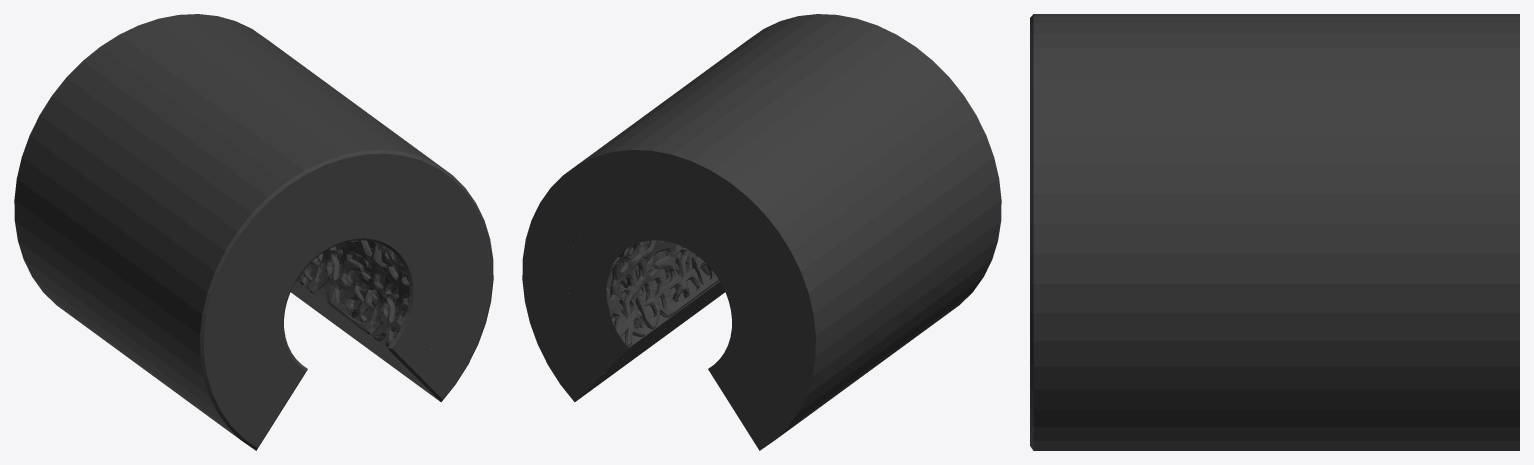
The model's file is sharedassets64.glb.
The picture shows the model from 3 angles, left to right: view 1: azimuth 30°, elevation 25°; view 2: azimuth 150°, elevation 25°; view 3: azimuth 270°, elevation 25°; orthographic projection. The views are drawn at different scales.
Visible parts, largest first — view 1: 0001_Healthy bone, cortical _compact_ bone__3, 0002_Healthy bone, cancellous _spongy_ bone__, 0003_Healthy bone, spongy lining__300000_003; view 2: 0001_Healthy bone, cortical _compact_ bone__3, 0002_Healthy bone, cancellous _spongy_ bone__, 0003_Healthy bone, spongy lining__300000_003; view 3: 0001_Healthy bone, cortical _compact_ bone__3.
Boxes of the visible parts, left/top/right/bottom form: 0001_Healthy bone, cortical _compact_ bone__3: left=14, top=14, right=493, bottom=450; 0002_Healthy bone, cancellous _spongy_ bone__: left=248, top=200, right=449, bottom=406; 0003_Healthy bone, spongy lining__300000_003: left=248, top=245, right=398, bottom=347; 0001_Healthy bone, cortical _compact_ bone__3: left=522, top=14, right=1001, bottom=450; 0002_Healthy bone, cancellous _spongy_ bone__: left=567, top=199, right=769, bottom=406; 0003_Healthy bone, spongy lining__300000_003: left=610, top=244, right=769, bottom=347; 0001_Healthy bone, cortical _compact_ bone__3: left=1030, top=14, right=1519, bottom=450.
Bounding box in the file's own units: 0.1157 × 0.1036 × 0.1276.
1 material, 1 textured.
